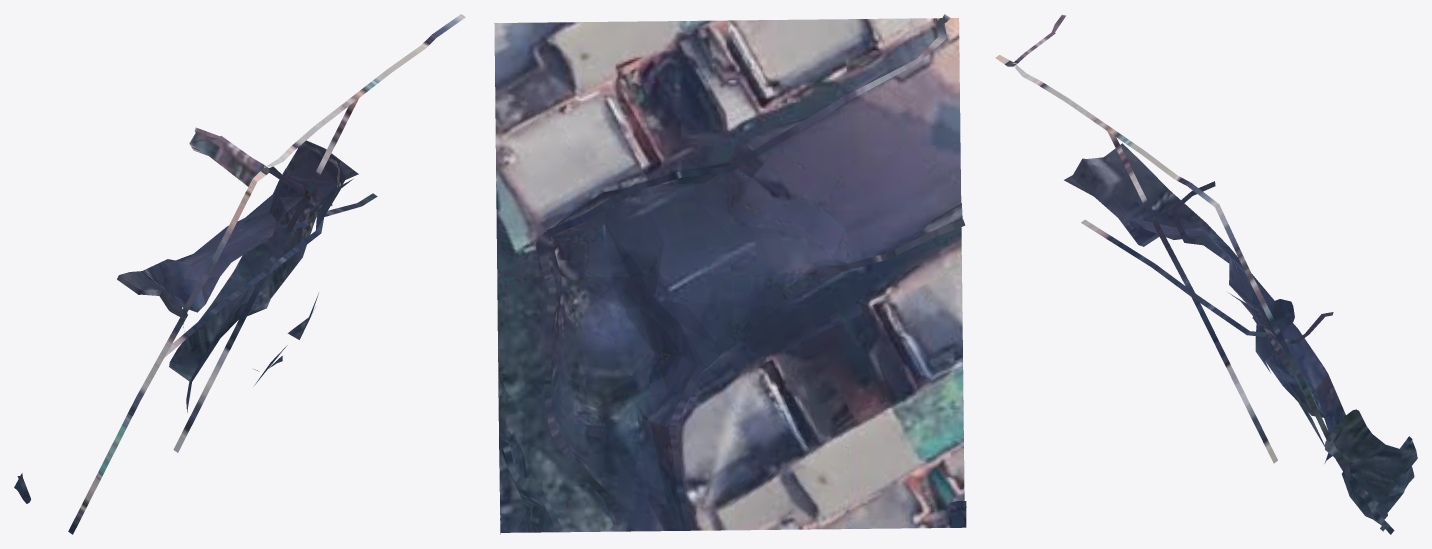
3 views of the same model, side by side, from view 1: azimuth 30°, elevation 25°; view 2: azimuth 150°, elevation 25°; view 3: azimuth 270°, elevation 25° (orthographic). The views are drawn at different scales.
Bounding box in the file's own units: 40.7 × 37.37 × 35.07.
1 material, 1 textured.
